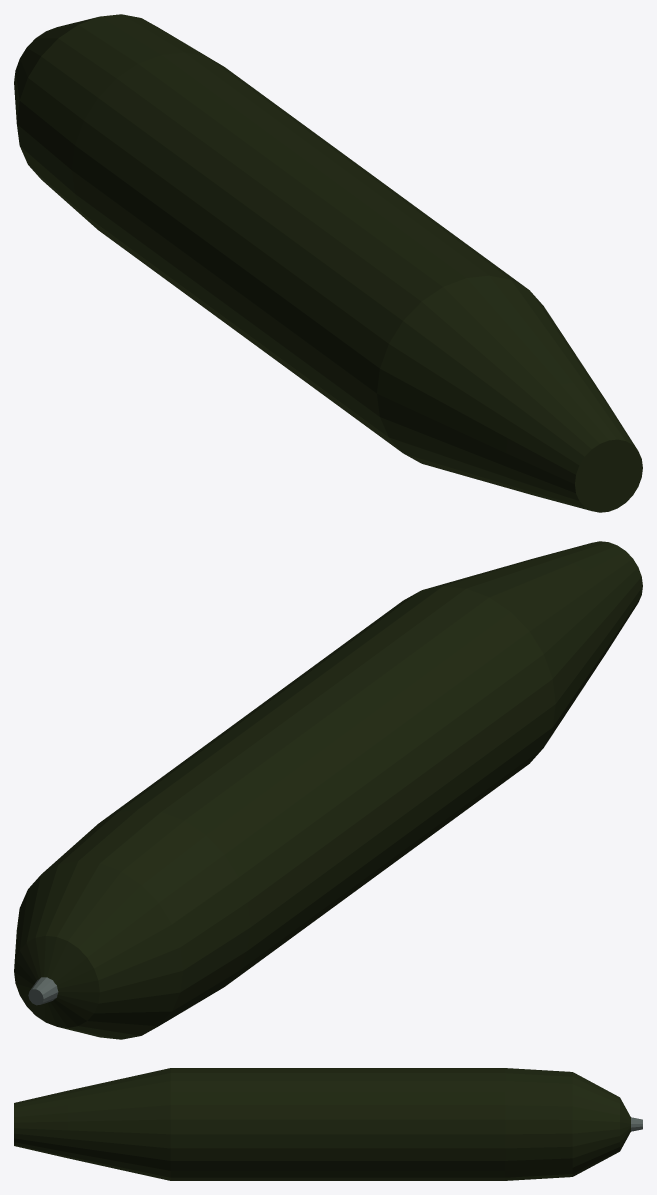
The model's file is BombMedium__Bomb.obj.
3 views of the same model, one above another, from view 1: azimuth 30°, elevation 25°; view 2: azimuth 150°, elevation 25°; view 3: azimuth 270°, elevation 25° (orthographic). The views are drawn at different scales.
Visible parts, largest first — view 1: Bomb_forged_casing; view 2: Bomb_forged_casing; view 3: Bomb_forged_casing.
Boxes of the visible parts, bbox=[...] form: Bomb_forged_casing: bbox=[14, 14, 642, 512]; Bomb_forged_casing: bbox=[14, 541, 642, 1039]; Bomb_forged_casing: bbox=[14, 1068, 630, 1180].
Bounding box in the file's own units: 0.42 × 0.42 × 2.33.
